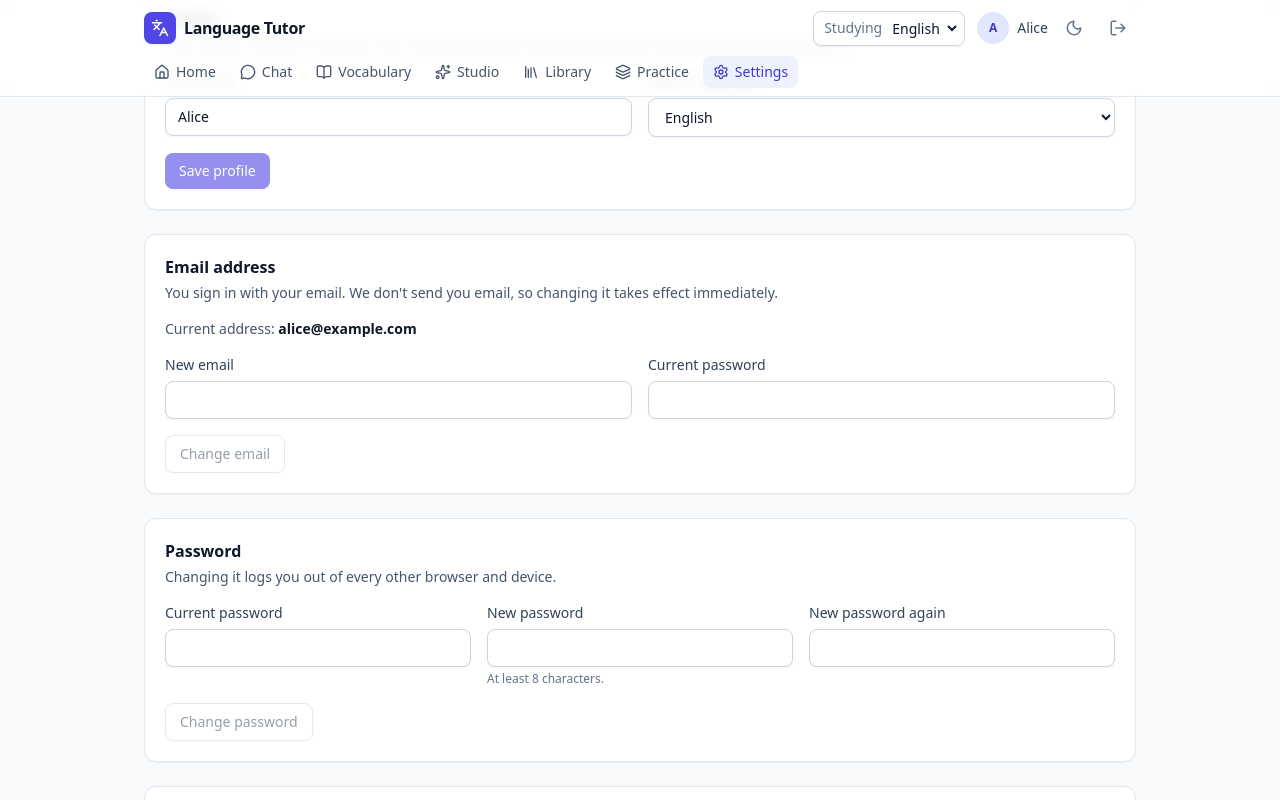
Scenario: settings: profile and email › shows the account's email and refuses to change it with the wrong password
(page scrolled)
In the field labelled "New email": {"x": 398, "y": 400} x1=165 y1=381 x2=632 y2=419, type "new@example.com"
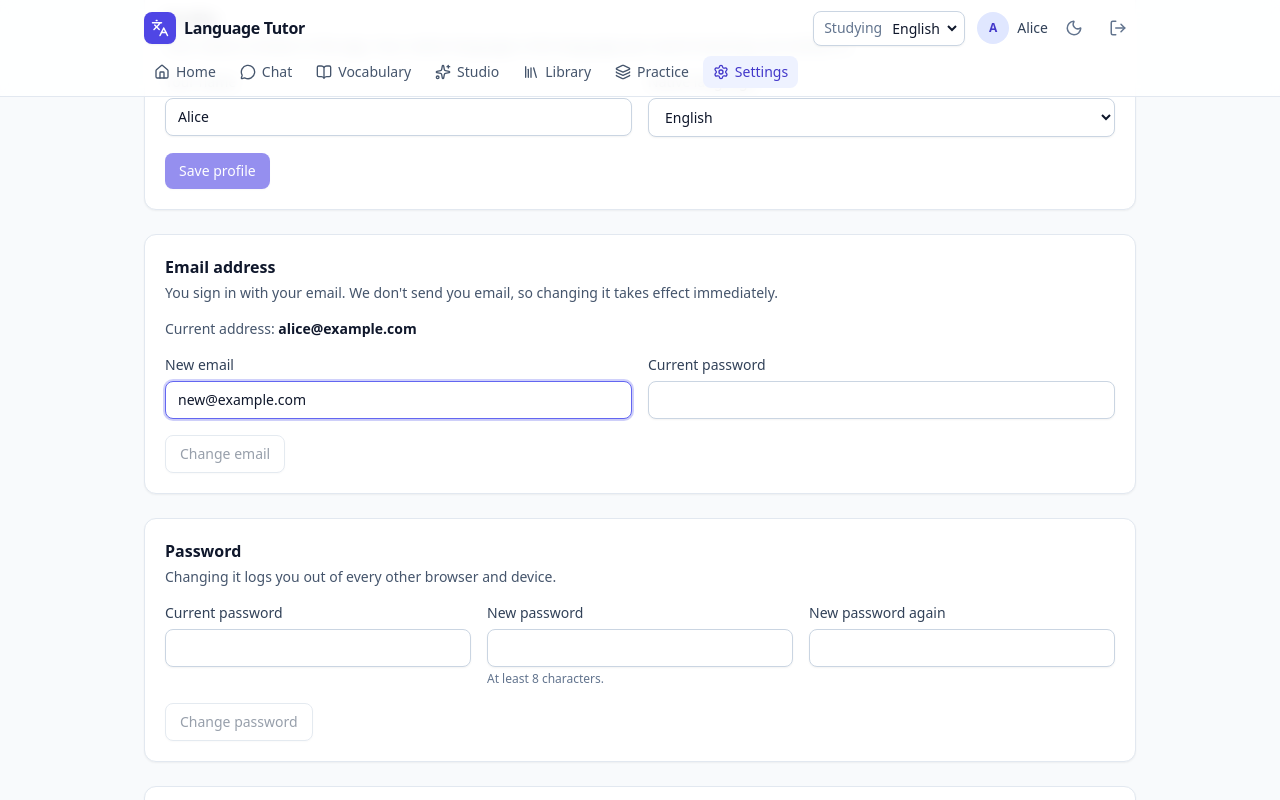
In the 1st password field labelled "Current password": {"x": 882, "y": 400} x1=648 y1=381 x2=1115 y2=419, type "wrong"
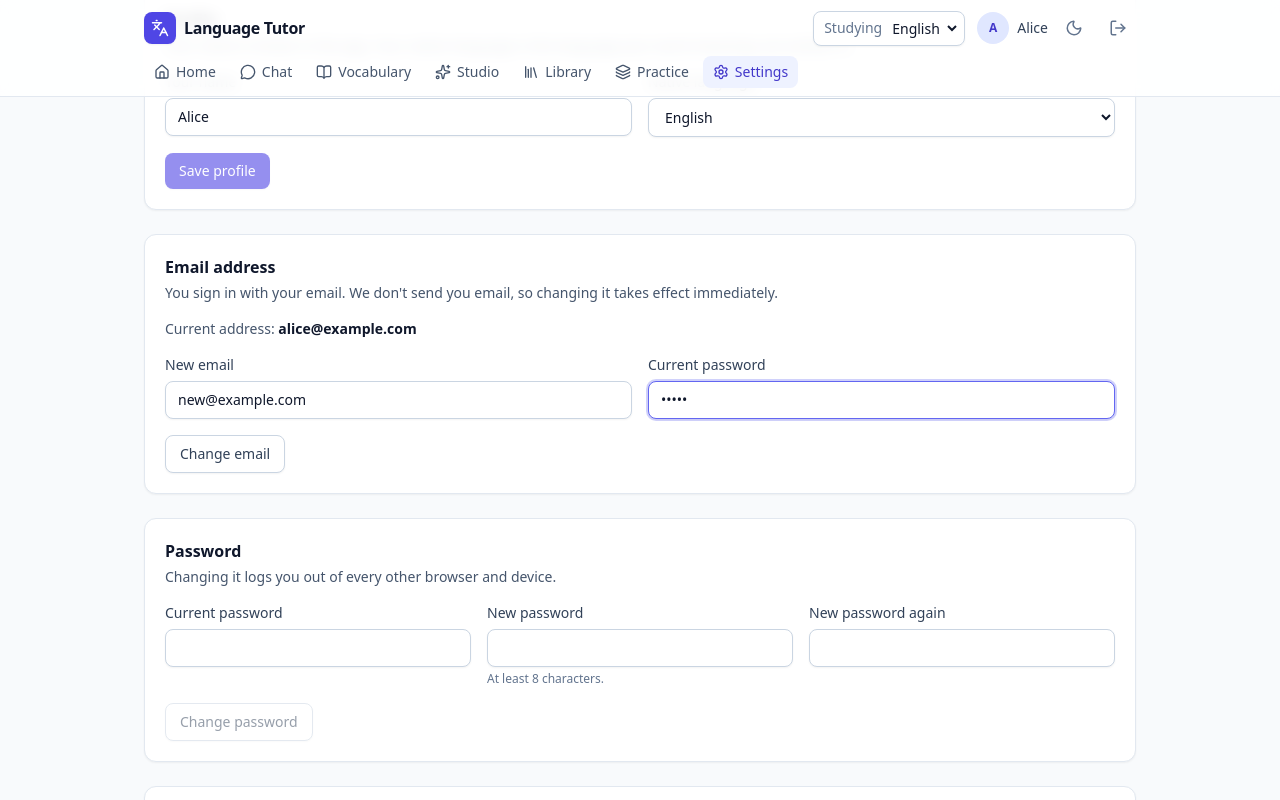
Click the button "Change email": {"x": 225, "y": 454} x1=165 y1=435 x2=285 y2=473
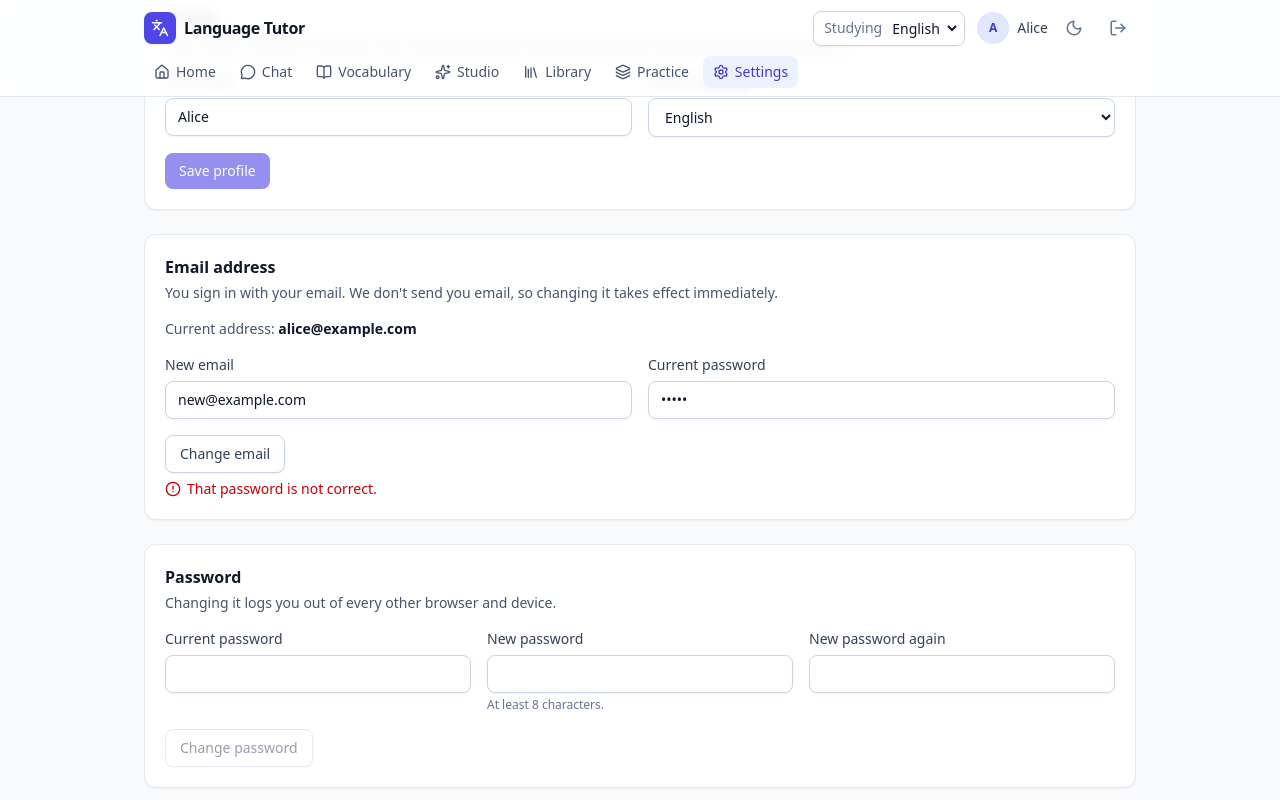
Check: the message reads "That password is not correct.", box x1=187 y1=479 x2=377 y2=498
